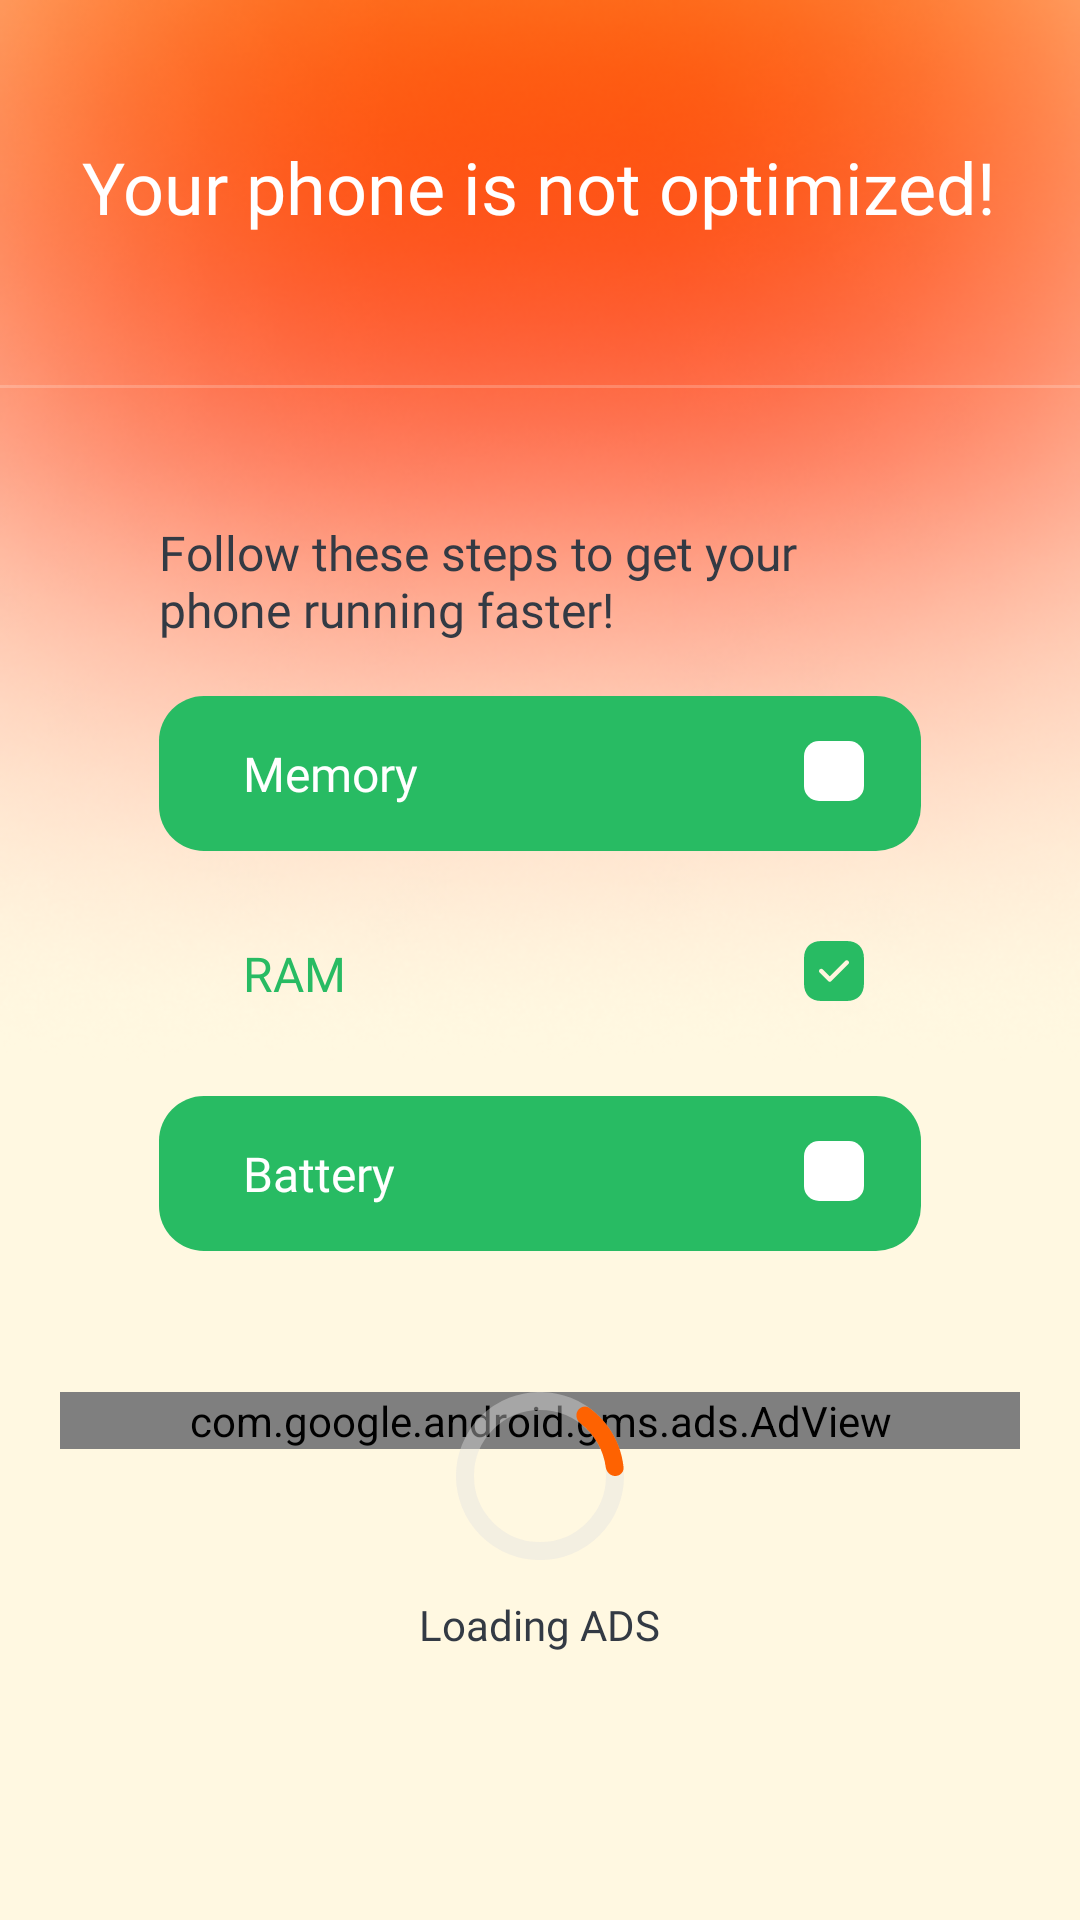

Icon click points for this 1080x1920 phone screenshot, format point (x, y):
checkbox off: point (834, 771), point (834, 1171)
checkbox on: point (834, 971)
